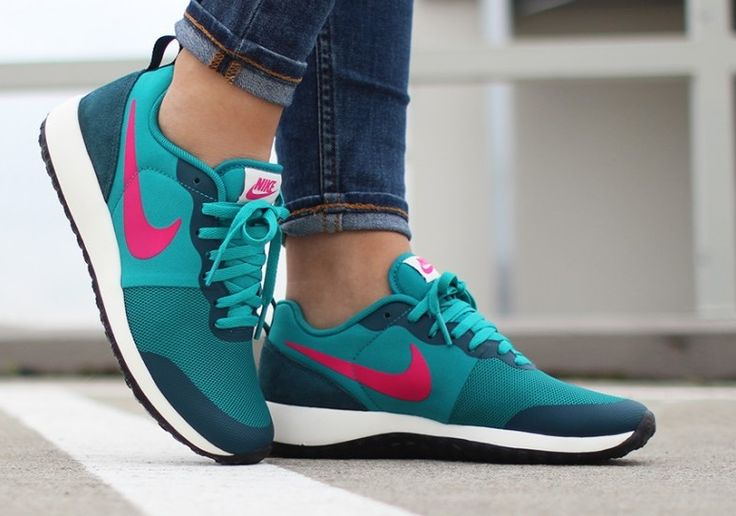nike: (278, 334, 432, 404), (125, 95, 185, 262)
